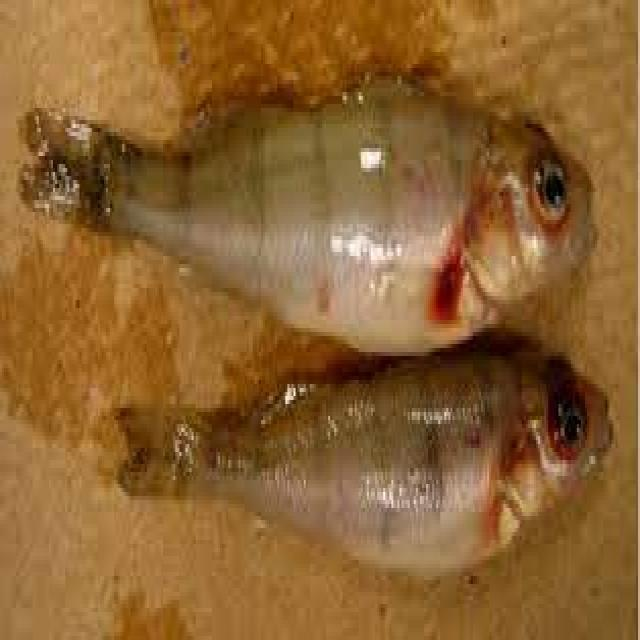EUS Disease: (12, 87, 632, 350), (92, 353, 624, 572), (346, 70, 624, 353), (403, 353, 640, 580), (12, 83, 226, 273), (88, 352, 320, 523)
